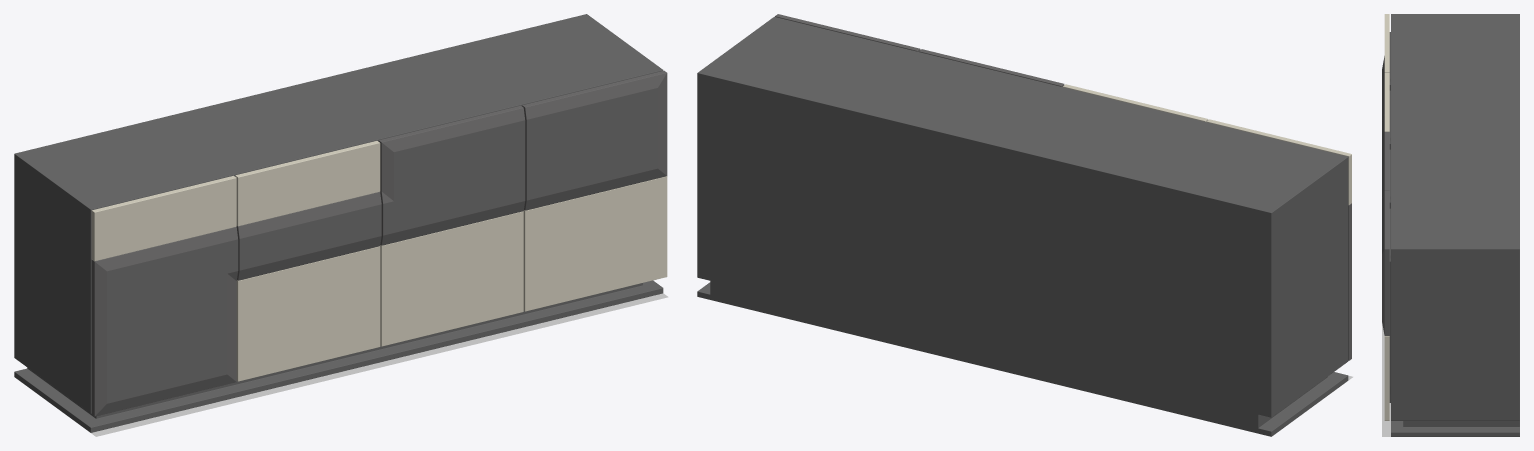
3 renders of one model, left to right at view 1: azimuth 30°, elevation 25°; view 2: azimuth 150°, elevation 25°; view 3: azimuth 270°, elevation 25°, orthographic. The views are drawn at different scales.
Parts seen in each view (by area): view 1: Buffet Moderne; view 2: Buffet Moderne; view 3: Buffet Moderne.
Part boxes in pixels (x1,y1,x2,y2): Buffet Moderne: (14, 14, 668, 436); Buffet Moderne: (697, 14, 1352, 436); Buffet Moderne: (1382, 14, 1519, 436).
Size of the model in its own units: 2.43 by 0.9058 by 0.602.
